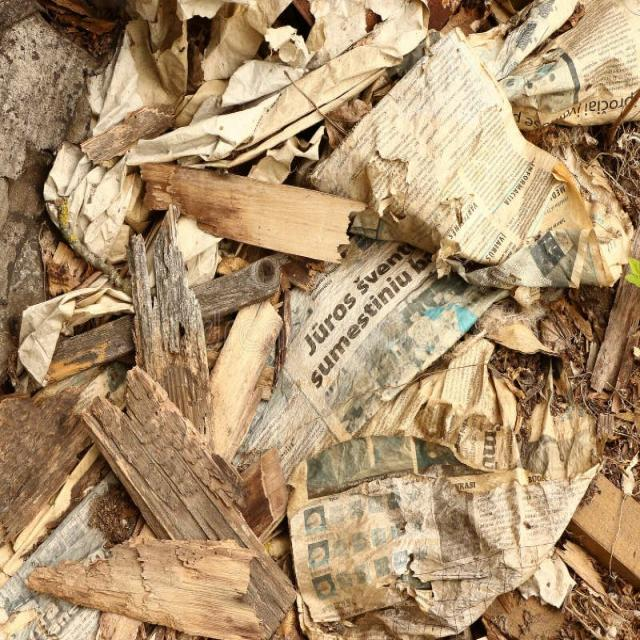Paper-Biodegradable-: (3, 0, 636, 640)
green waste: (24, 164, 354, 632), (51, 241, 285, 375), (567, 480, 640, 604), (584, 268, 637, 412)
